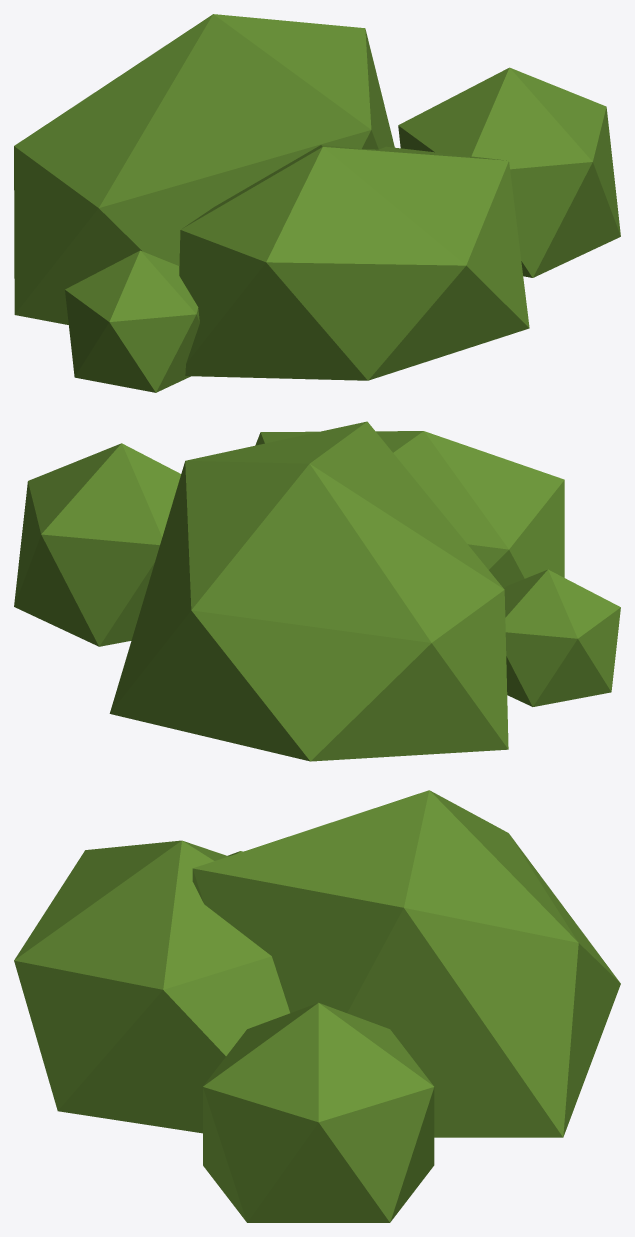
File: SM_Bush_02.fbx
3 views of the same model, one above another, from view 1: azimuth 30°, elevation 25°; view 2: azimuth 150°, elevation 25°; view 3: azimuth 270°, elevation 25° (orthographic). The views are drawn at different scales.
Visible parts, largest first — view 1: Bush_02; view 2: Bush_02; view 3: Bush_02.
Boxes of the visible parts, box(x1,y1,x2,y2) form: Bush_02: box(14, 14, 620, 392); Bush_02: box(14, 421, 620, 761); Bush_02: box(14, 790, 620, 1222).
Bounding box in the file's own units: 3.48 × 1.58 × 2.97.
